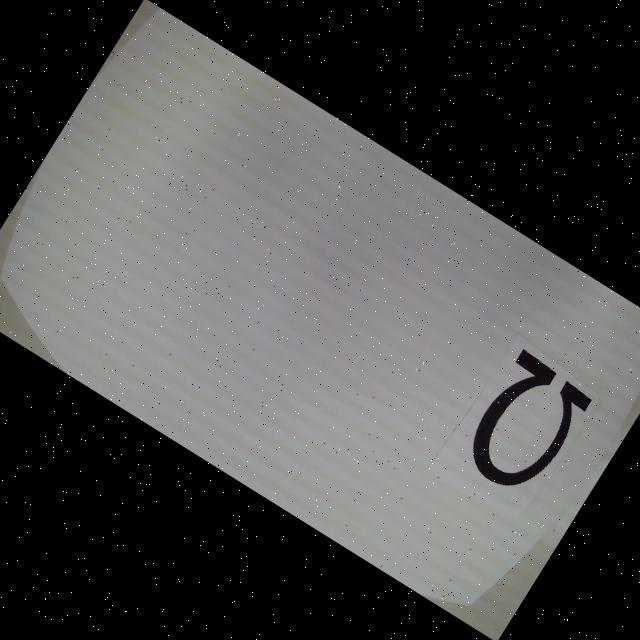OMEGA: (454, 348, 593, 501)
